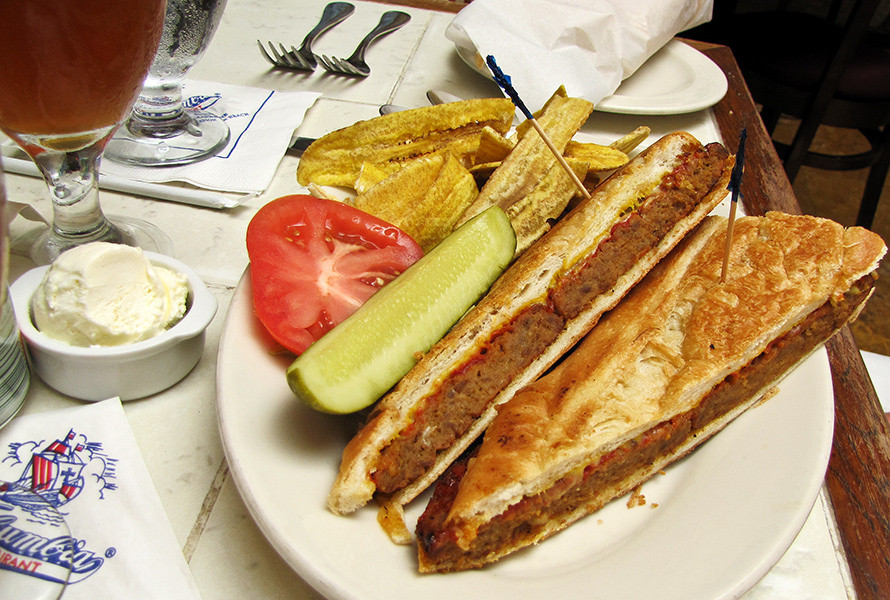slice of bread: (581, 218, 815, 375)
